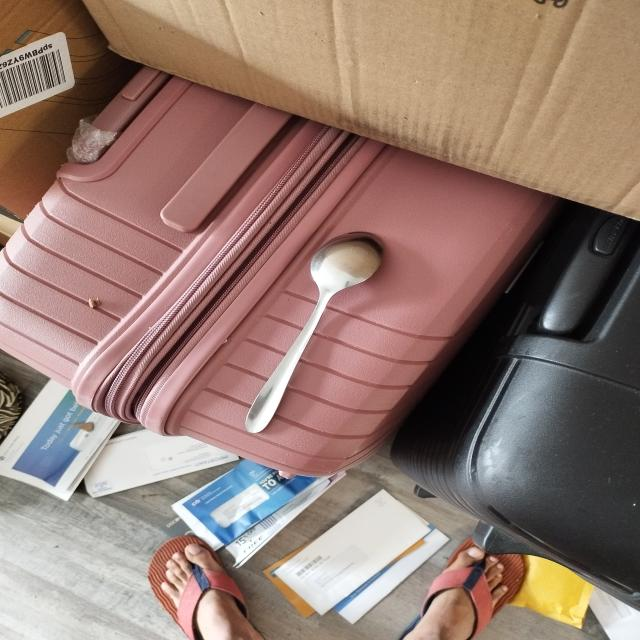Spoon: (208, 222, 418, 438)
